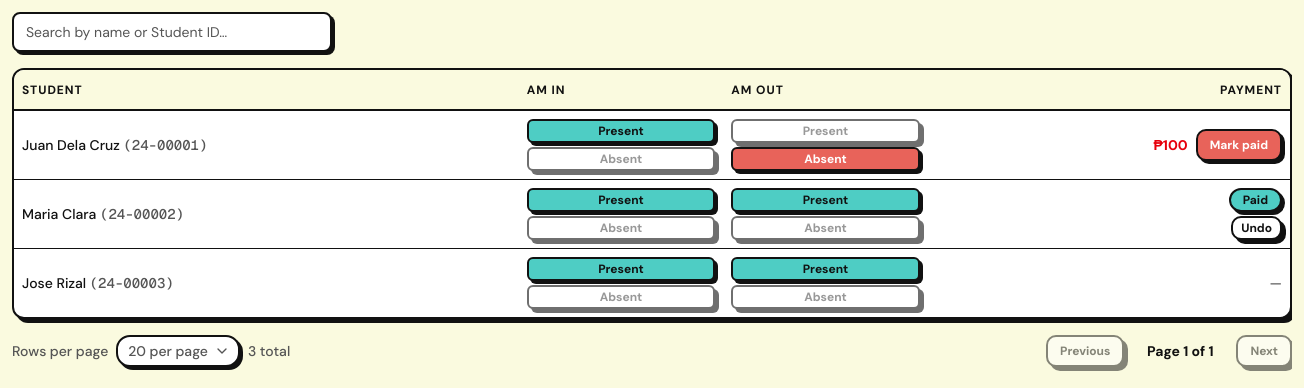
Test: AttendanceGrid & Sentinel Controls › filters students by search query in name or Student ID
Expected: the text "Juan Dela Cruz (24-00001)" is shown, [14, 110, 519, 180]
Expected: the text "Maria Clara (24-00002)" is shown, [14, 180, 519, 248]
Type "Maria" into the field with placeholder "Search by name or Student ID…". click: (172, 32)
box: [12, 12, 332, 52]
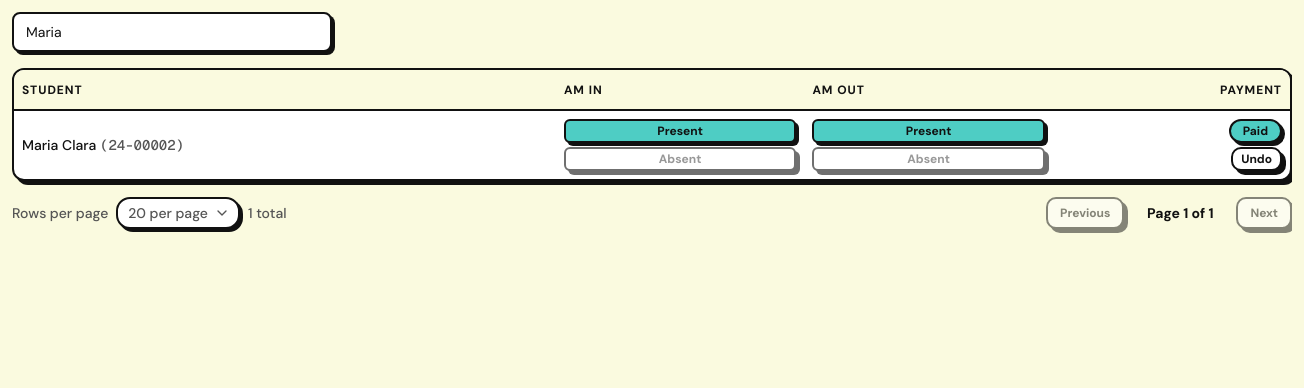
Expected: the text "Maria Clara (24-00002)" is shown, [14, 110, 556, 179]
Expected: the text "Juan Dela Cruz" is gone
Expected: the text "Jose Rizal" is gone
